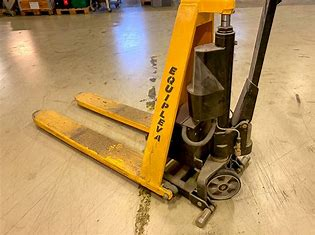Pallet Jack: (31, 1, 284, 227)
